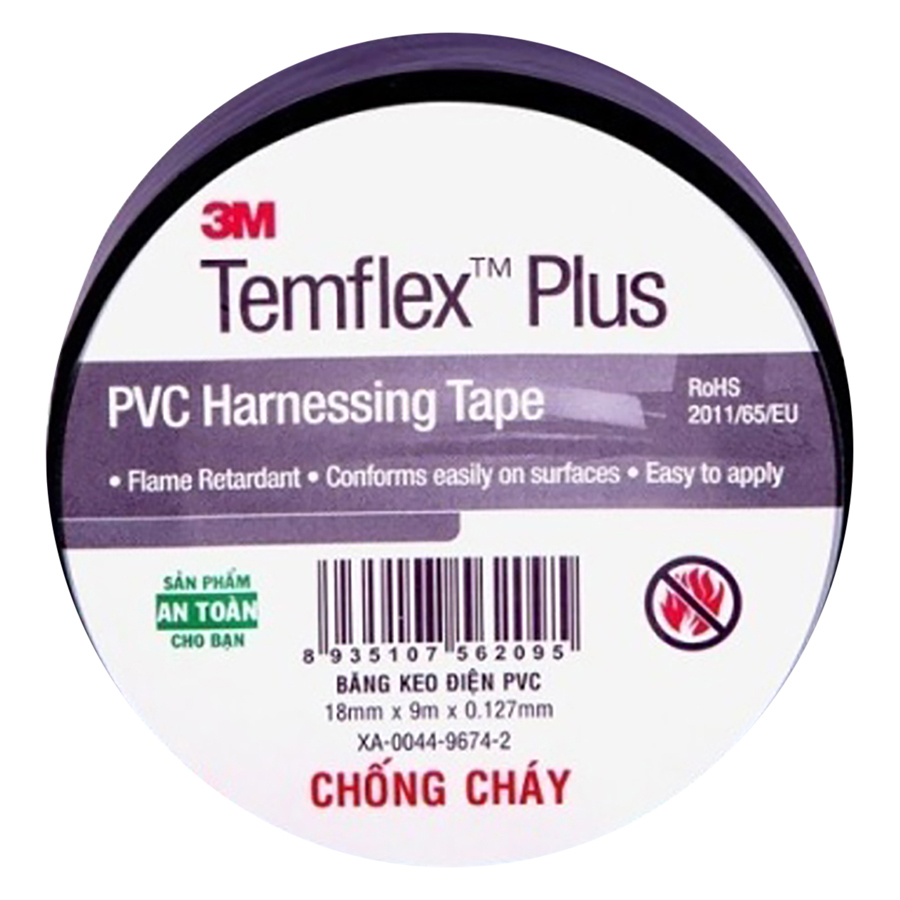3M: (200, 194, 287, 248)
